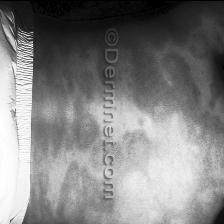Toxin: (132, 49, 200, 122), (71, 100, 99, 153)
